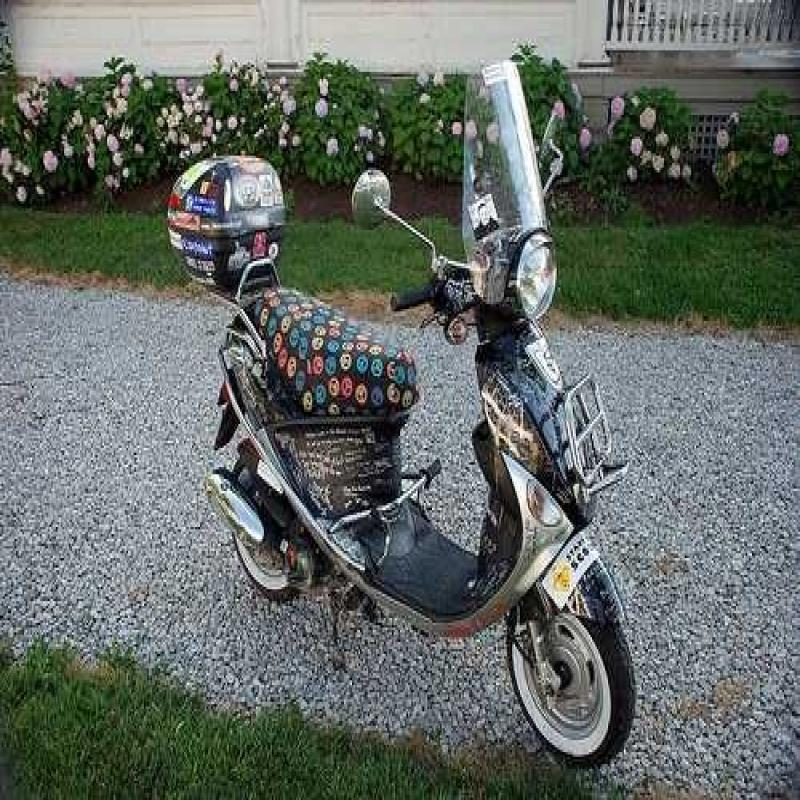bike: (203, 109, 638, 750)
